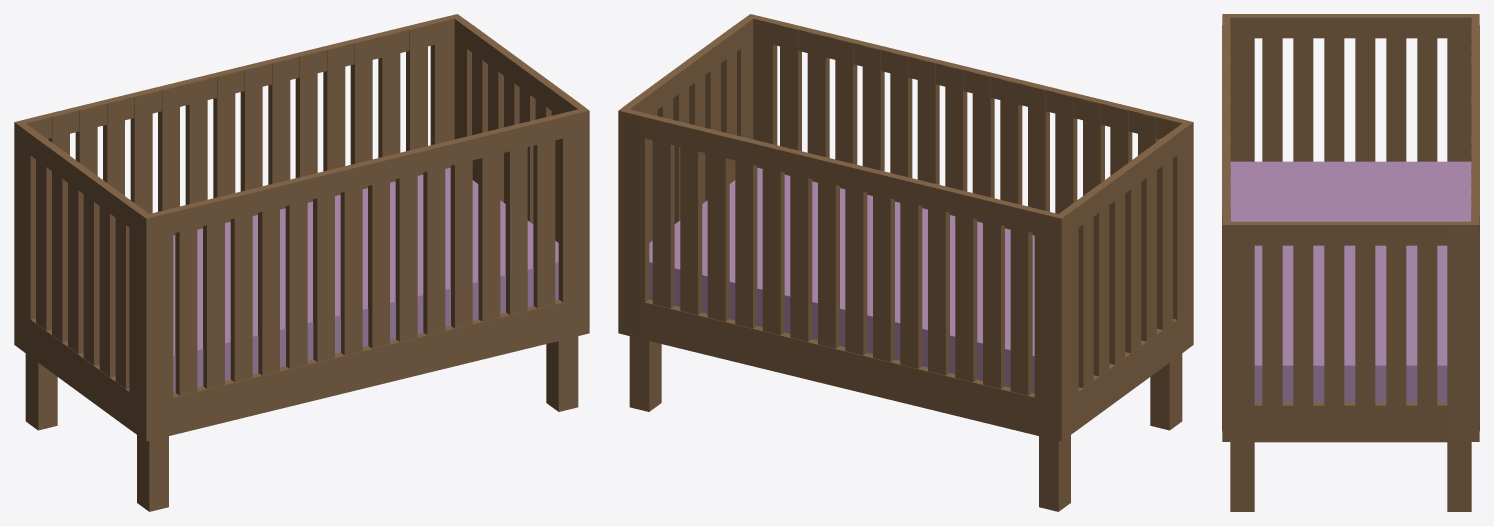
File: babycrib.fbx
3 views of the same model, side by side, from view 1: azimuth 30°, elevation 25°; view 2: azimuth 150°, elevation 25°; view 3: azimuth 270°, elevation 25° (orthographic). The views are drawn at different scales.
Visible parts, largest first — view 1: Cube; view 2: Cube; view 3: Cube.
Boxes of the visible parts, box(x1,y1,x2,y2) form: Cube: box(14, 14, 589, 511); Cube: box(618, 14, 1193, 511); Cube: box(1222, 14, 1479, 511).
Bounding box in the file's own units: 124 × 79.66 × 64.07.
